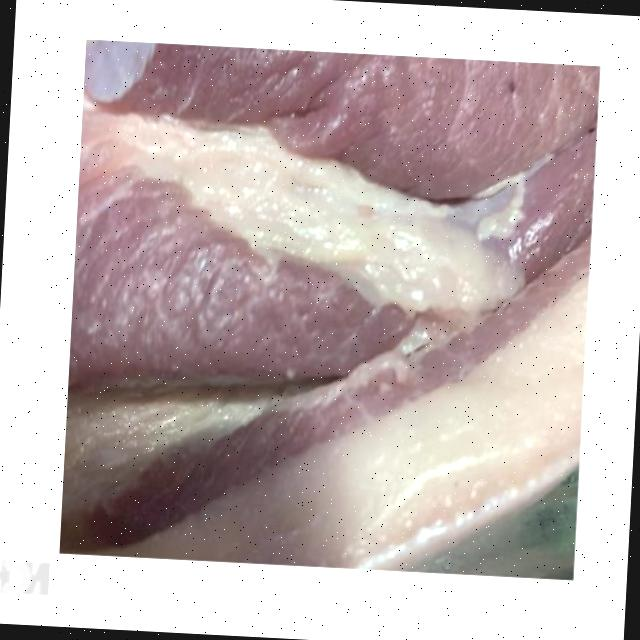rotten meat: (45, 24, 626, 592)
